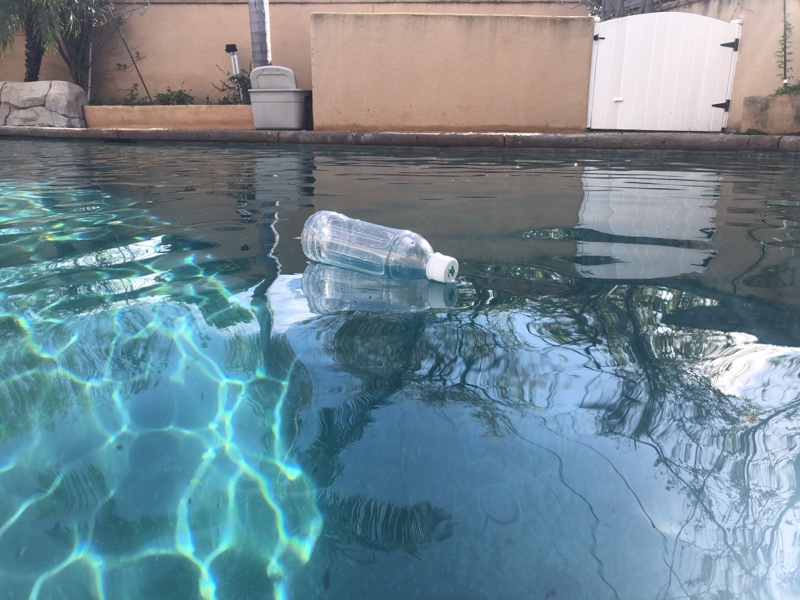Plastic Bottle: (297, 209, 460, 287)
